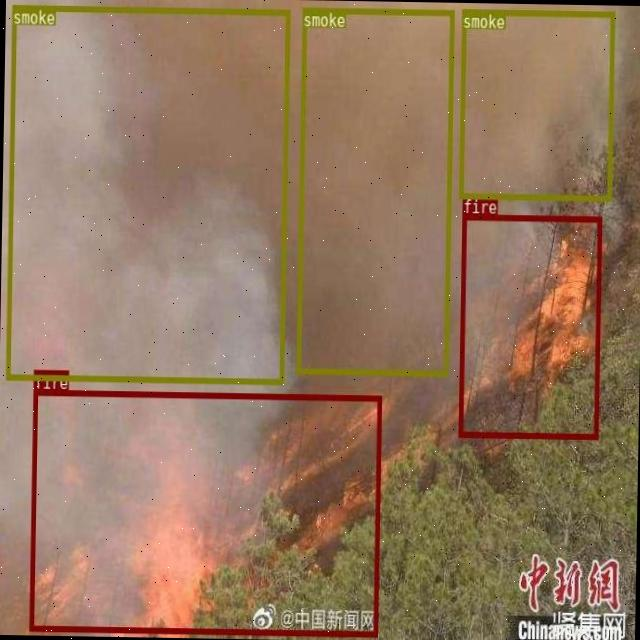fire: (28, 389, 380, 635), (458, 213, 601, 438)
smoke: (5, 5, 289, 382), (296, 7, 452, 376), (458, 7, 614, 200)
